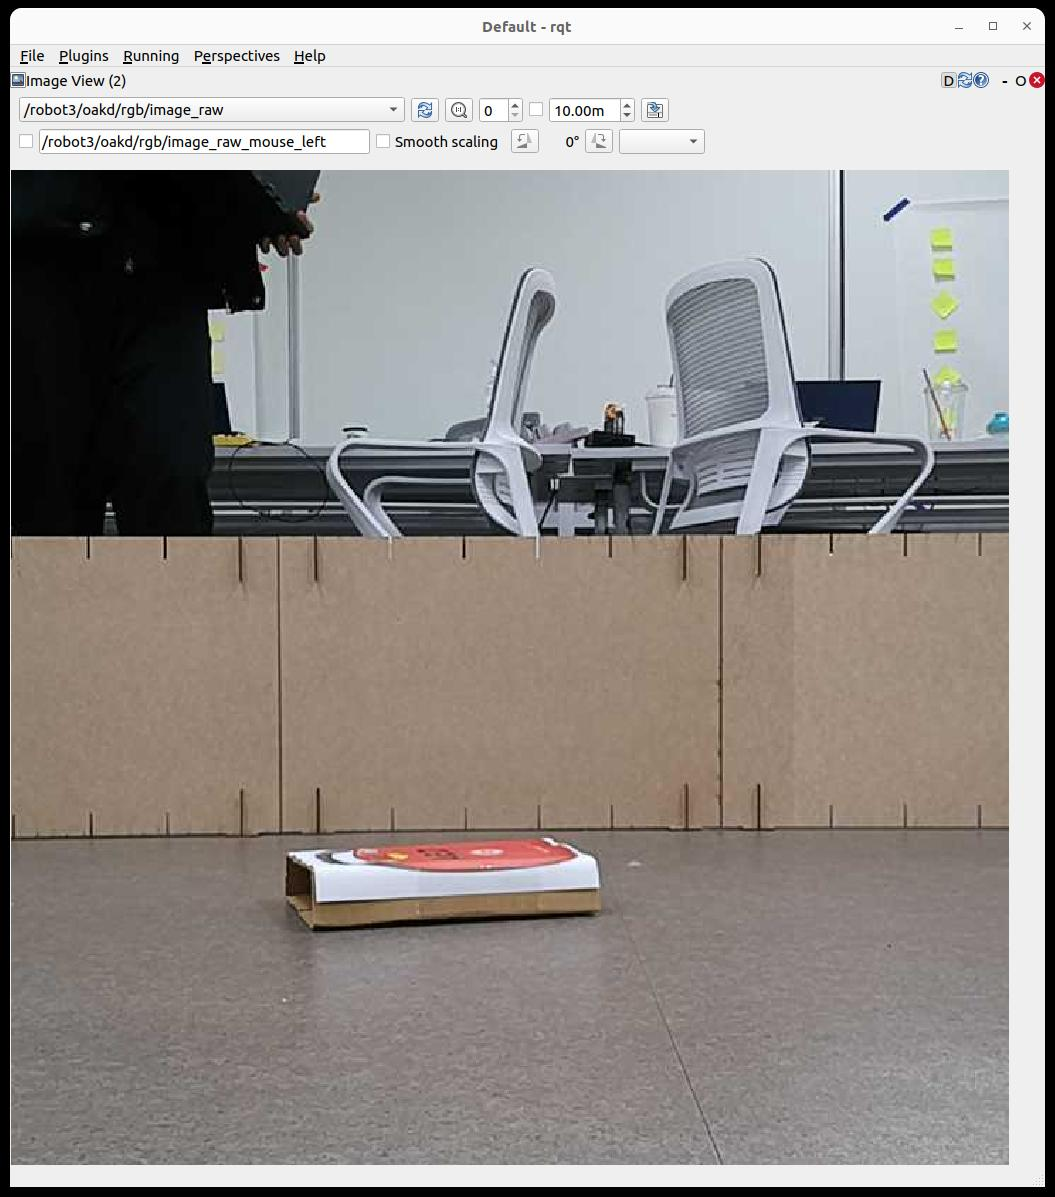AED: (286, 837, 599, 929)
